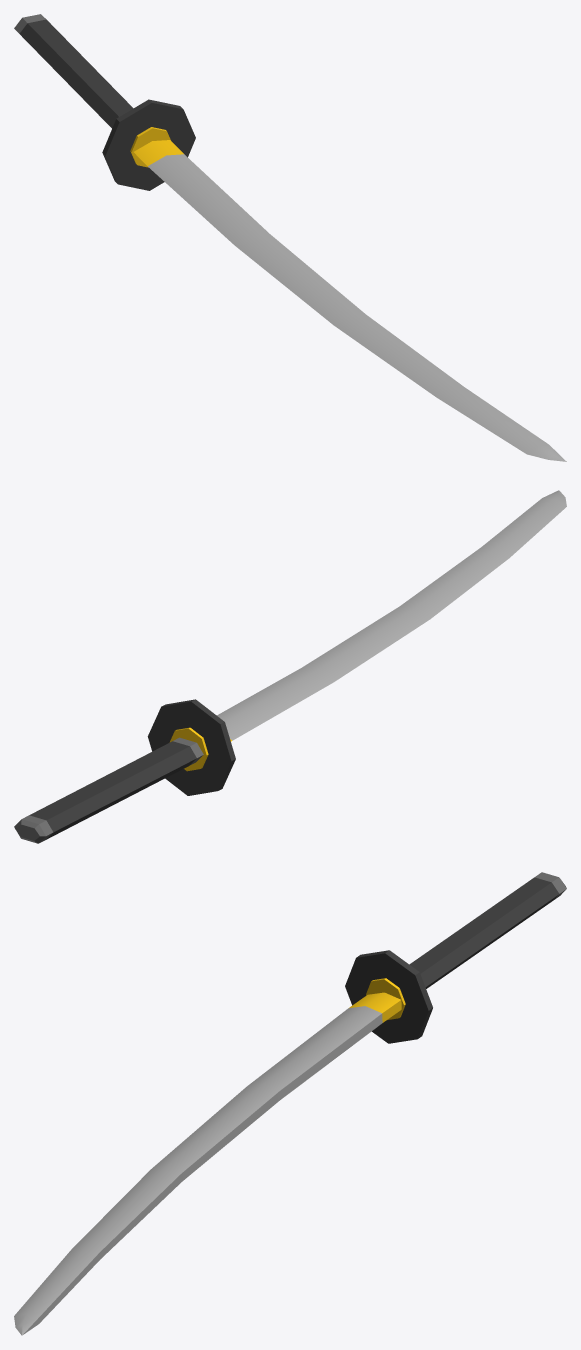
Rendered from Katana_3D.glb.
3 renders of one model, top to bottom at view 1: azimuth 30°, elevation 25°; view 2: azimuth 150°, elevation 25°; view 3: azimuth 330°, elevation 25°, orthographic. The views are drawn at different scales.
Parts seen in each view (by area): view 1: Katana; view 2: Katana; view 3: Katana.
Part boxes in pixels (<box>): Katana: <box>14,14,566,461</box>; Katana: <box>14,490,566,843</box>; Katana: <box>14,872,566,1335</box>.
Bounding box in the file's own units: 0.1411 × 0.141 × 1.49.
1 material, 1 textured.
